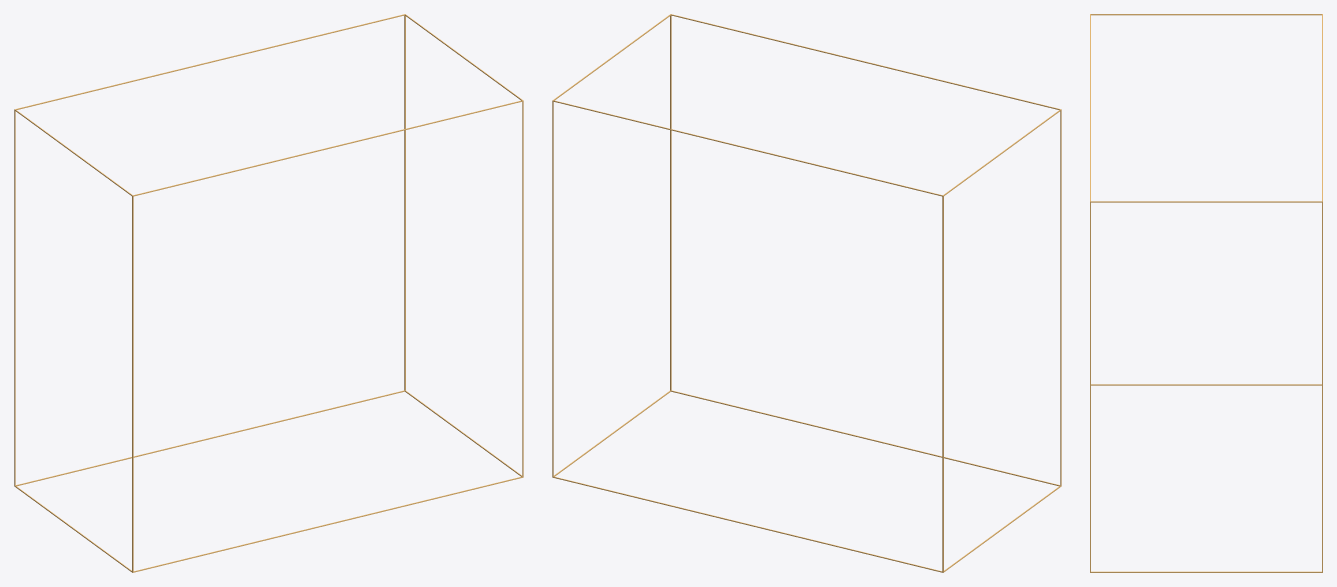
Rendered from speedriding_wings.glb.
3 views of the same model, side by side, from view 1: azimuth 30°, elevation 25°; view 2: azimuth 150°, elevation 25°; view 3: azimuth 270°, elevation 25° (orthographic).
Visible parts, largest first — view 1: box_0; view 2: box_0; view 3: box_0.
Boxes of the visible parts, left/top/right/bottom form: box_0: left=14, top=14, right=523, bottom=572; box_0: left=552, top=14, right=1061, bottom=572; box_0: left=1090, top=14, right=1322, bottom=572.
Bounding box in the file's own units: 4.53 × 4.17 × 2.37.
